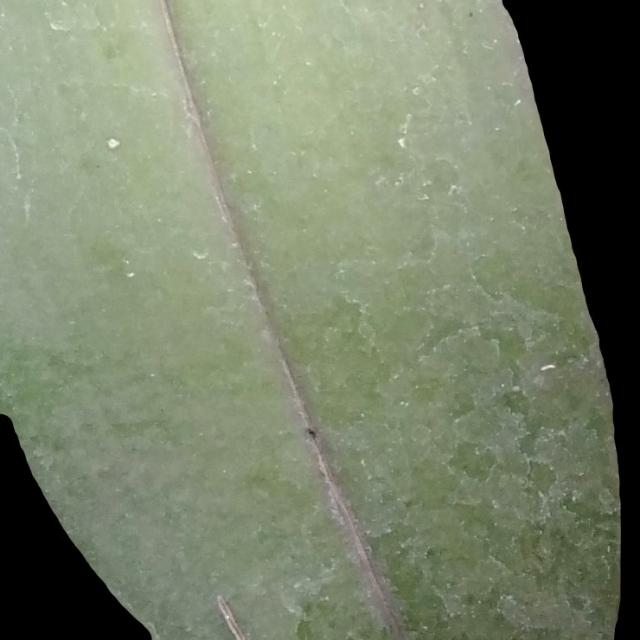mite: (291, 275, 611, 632), (445, 385, 533, 484), (78, 131, 125, 176), (450, 438, 496, 483), (500, 387, 530, 417), (418, 540, 442, 566), (294, 617, 313, 637), (423, 545, 436, 560), (305, 426, 317, 438), (93, 161, 103, 171)
